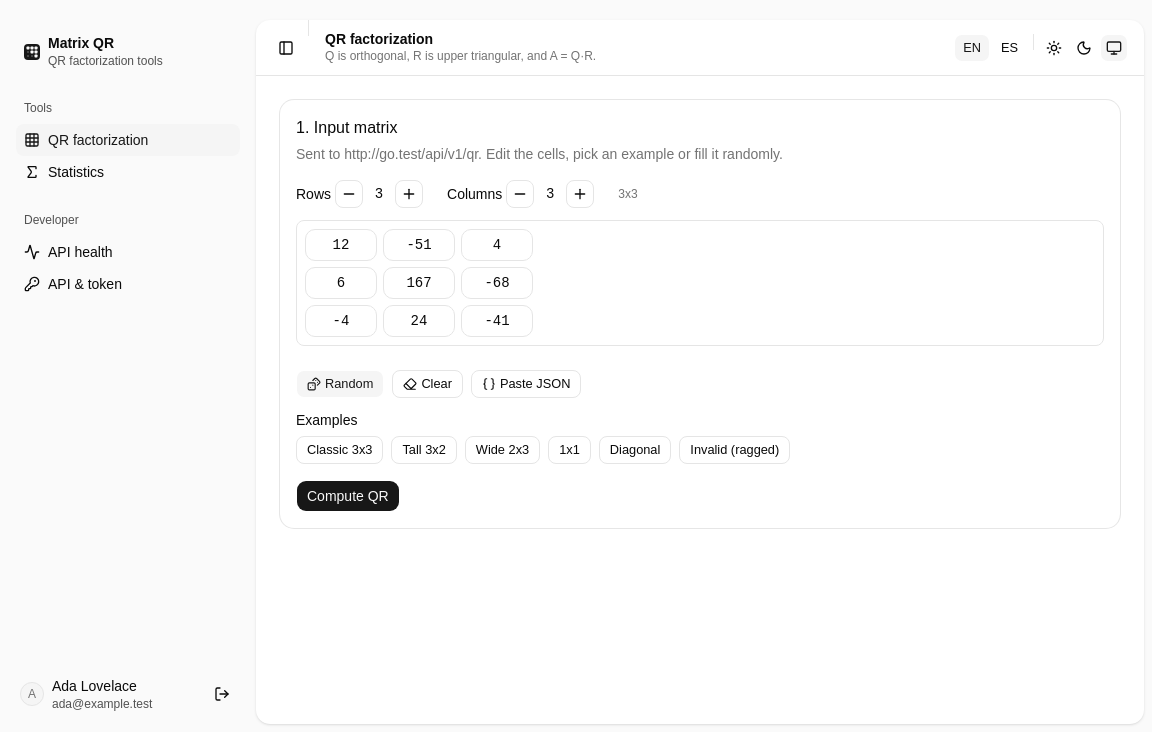
Test case: App navigation › switches views from the sidebar and marks the active item
Expected: the heading "QR factorization" is shown, [325,31,433,47]
Expected: the element named "Matrix values" is shown, [296,220,1104,346]
Click the button "Statistics" at (128, 172), box [16,156,240,188]
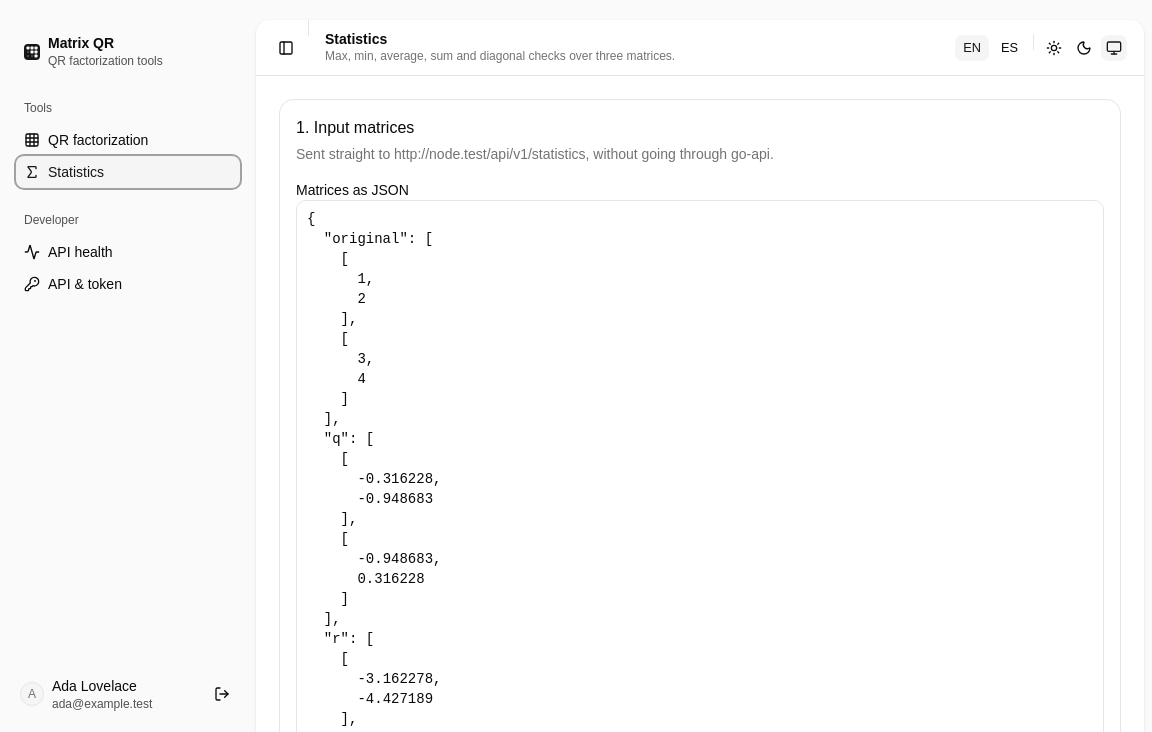
Result: the heading "Statistics" is shown at [325,31,387,47]
Click the button "API & token" at (128, 284), box [16,268,240,300]
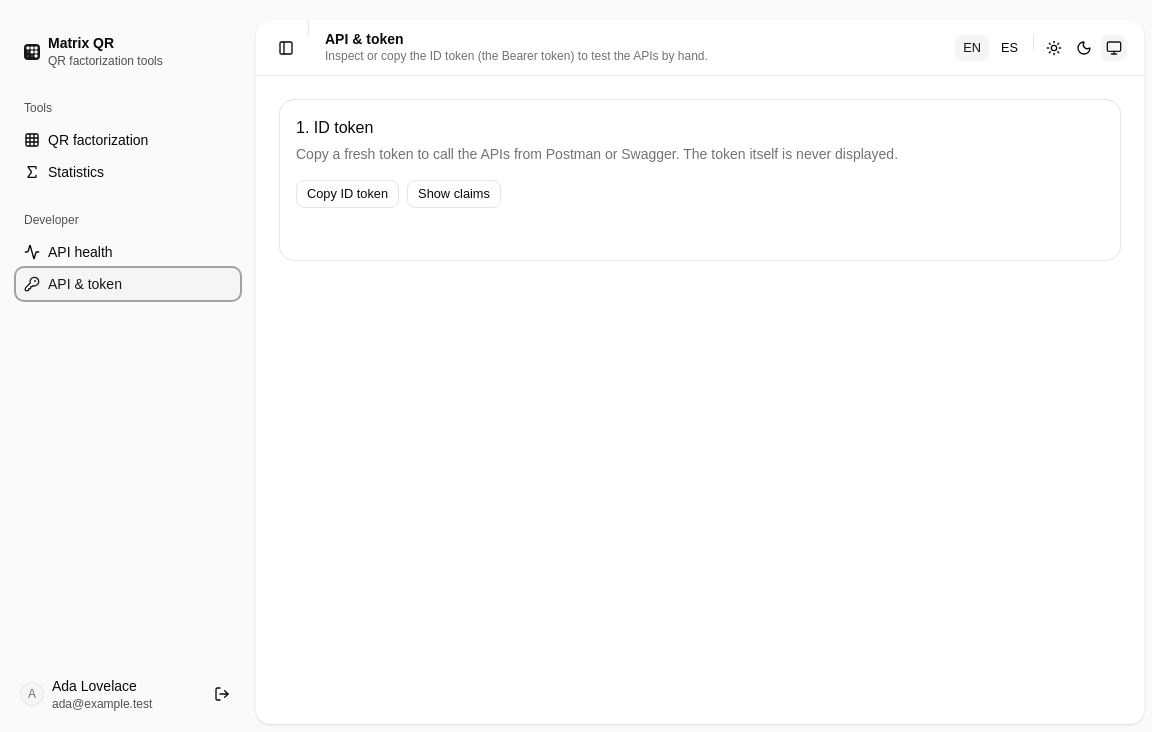
Result: the button "Copy ID token" is shown at [296,180,399,208]
